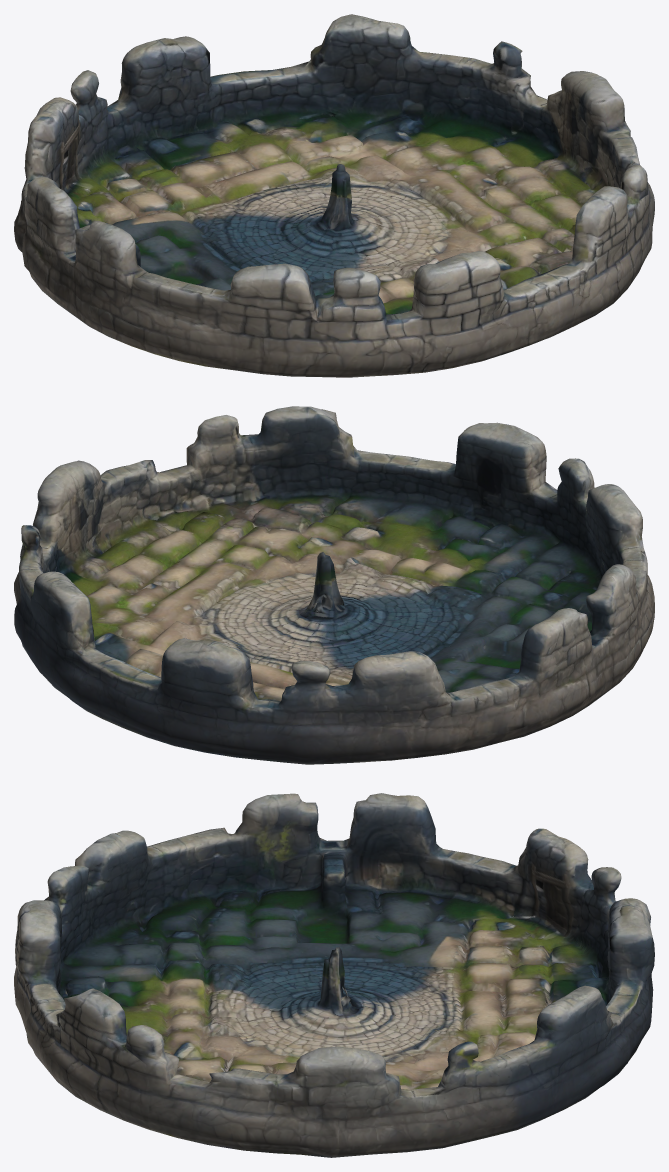
File: arena2.glb
3 renders of one model, top to bottom at view 1: azimuth 30°, elevation 25°; view 2: azimuth 150°, elevation 25°; view 3: azimuth 270°, elevation 25°, orthographic.
Bounding box in the file's own units: 1.99 × 0.3625 × 1.98.
Materials: 1 (1 with a texture image).
